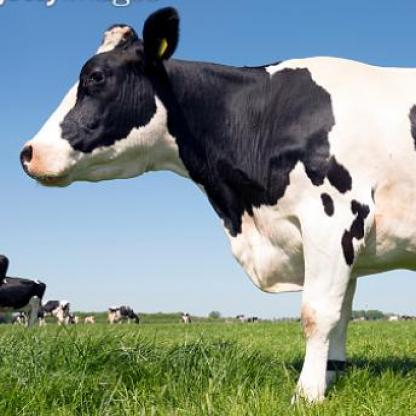cow: (22, 7, 416, 404)
